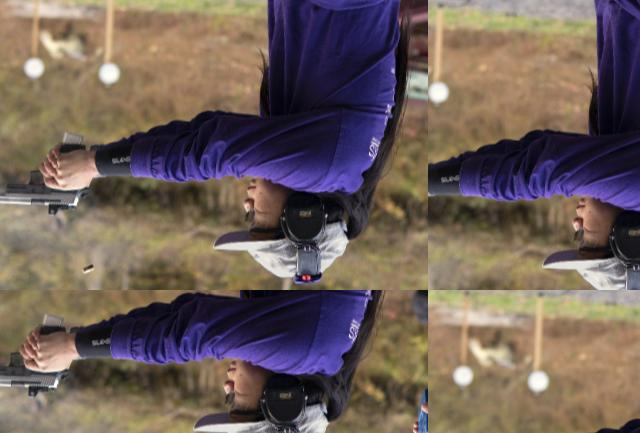handgun: (260, 398, 304, 432)
